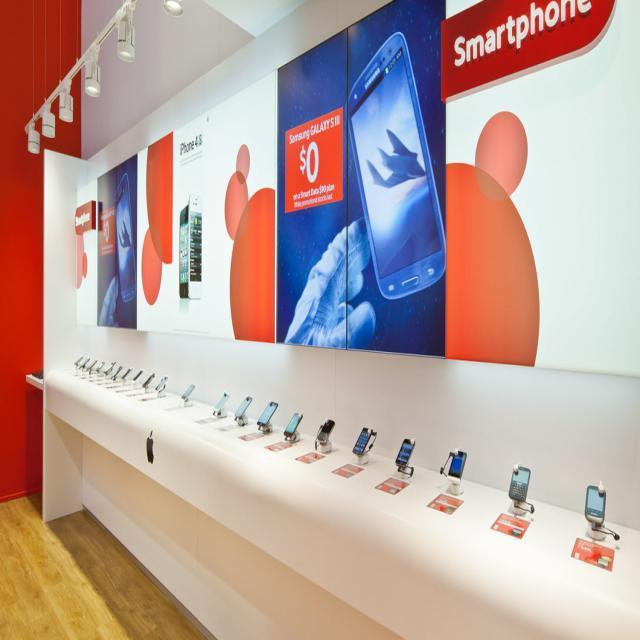cellphone: (347, 31, 448, 290), (114, 174, 142, 302), (186, 188, 206, 300), (176, 206, 186, 298), (586, 490, 608, 526), (352, 427, 376, 455), (512, 460, 528, 498), (260, 398, 278, 427), (214, 390, 230, 417), (320, 414, 333, 447), (236, 393, 253, 417), (286, 410, 298, 442), (403, 437, 413, 472), (182, 383, 196, 404), (157, 376, 169, 398), (144, 371, 156, 393), (454, 448, 463, 474), (104, 360, 118, 374), (123, 366, 133, 384), (132, 367, 144, 381), (86, 358, 97, 370), (114, 366, 124, 378), (97, 359, 105, 374), (74, 352, 84, 364), (80, 357, 88, 368)
